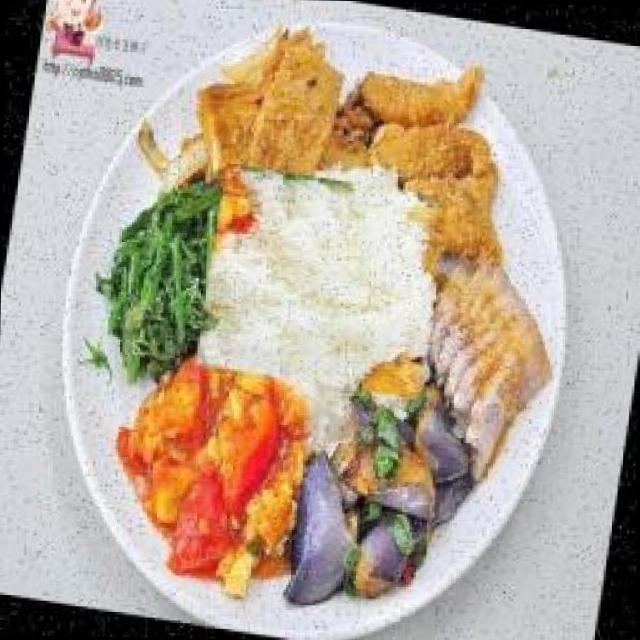rice: (198, 158, 445, 404)
